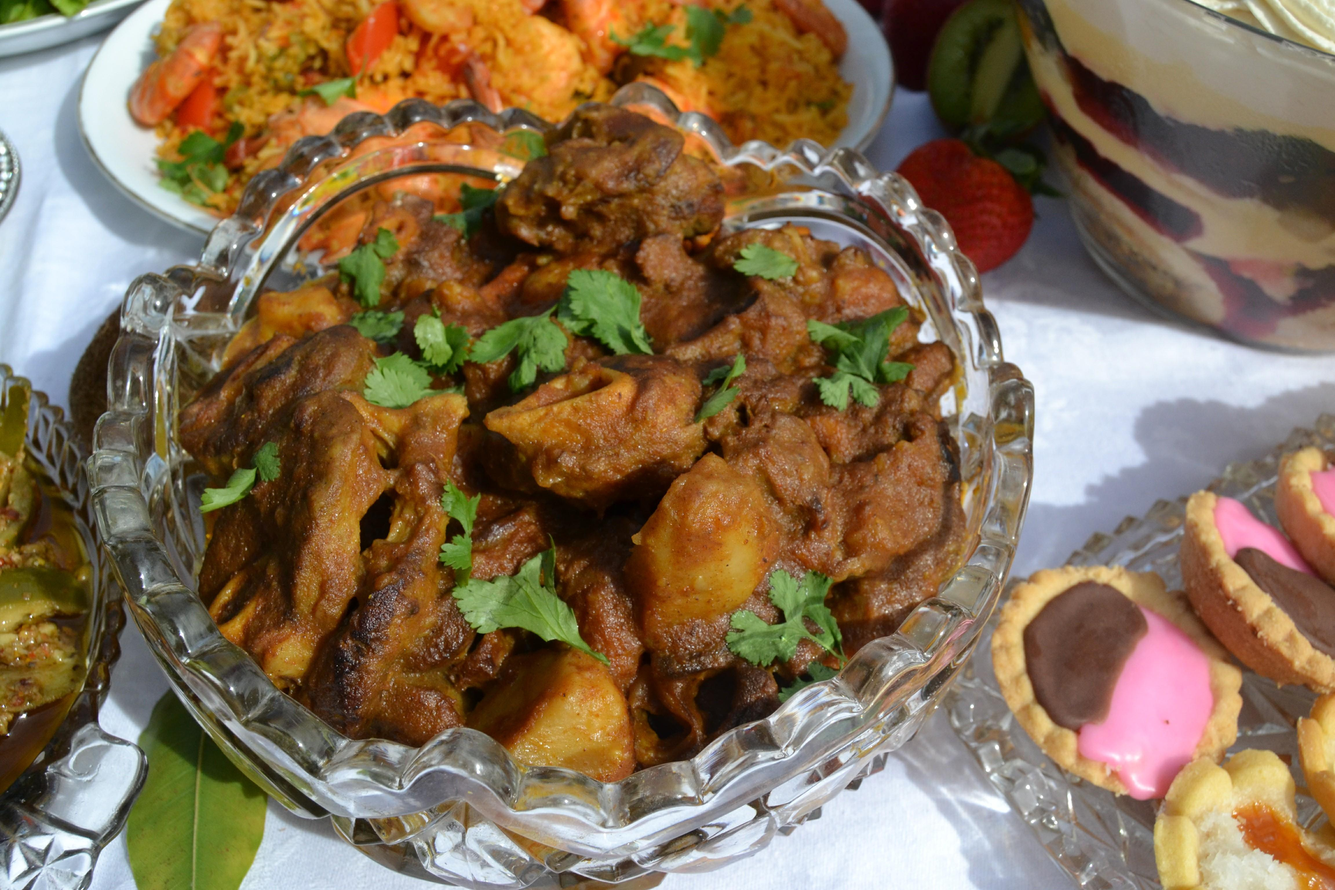MuttonCurry: (190, 105, 971, 772)
